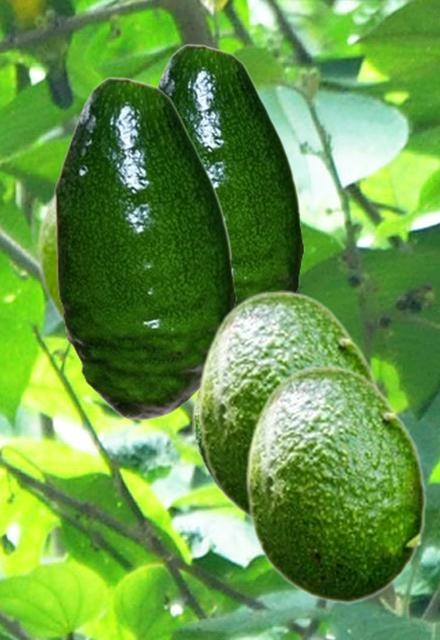avocado: (54, 76, 235, 419), (244, 365, 426, 603), (196, 290, 382, 521), (155, 43, 303, 302), (192, 393, 229, 503), (36, 186, 63, 325)
